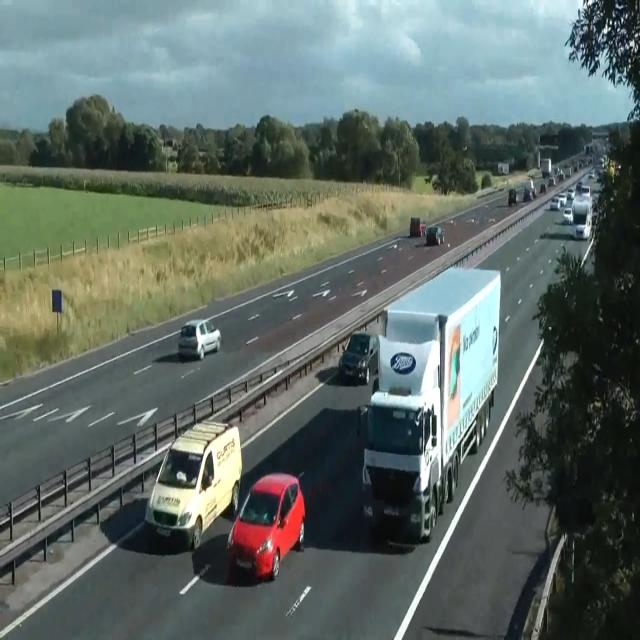bus: (226, 471, 306, 581), (338, 330, 378, 385), (177, 318, 221, 360), (425, 225, 445, 245), (508, 188, 517, 205), (550, 196, 560, 210), (548, 177, 555, 186)
jeep: (144, 419, 242, 550), (570, 195, 592, 240), (409, 216, 425, 236)
minibus: (357, 266, 501, 542), (541, 157, 551, 178), (497, 162, 509, 174)
